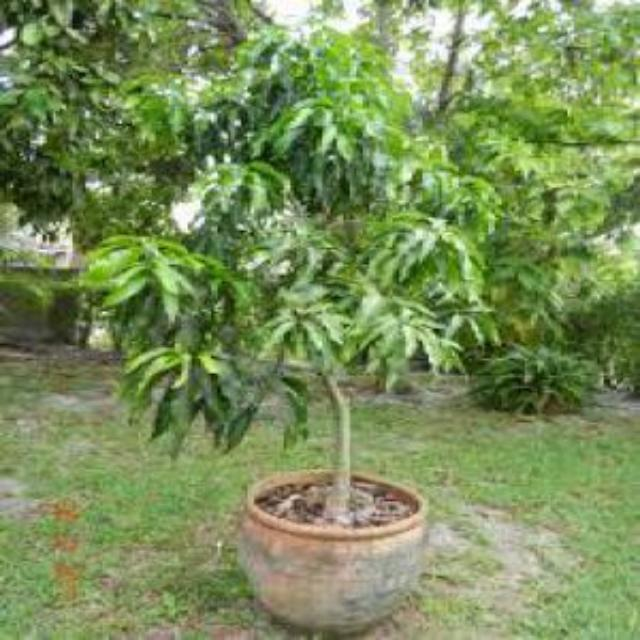tree: (66, 103, 508, 627)
